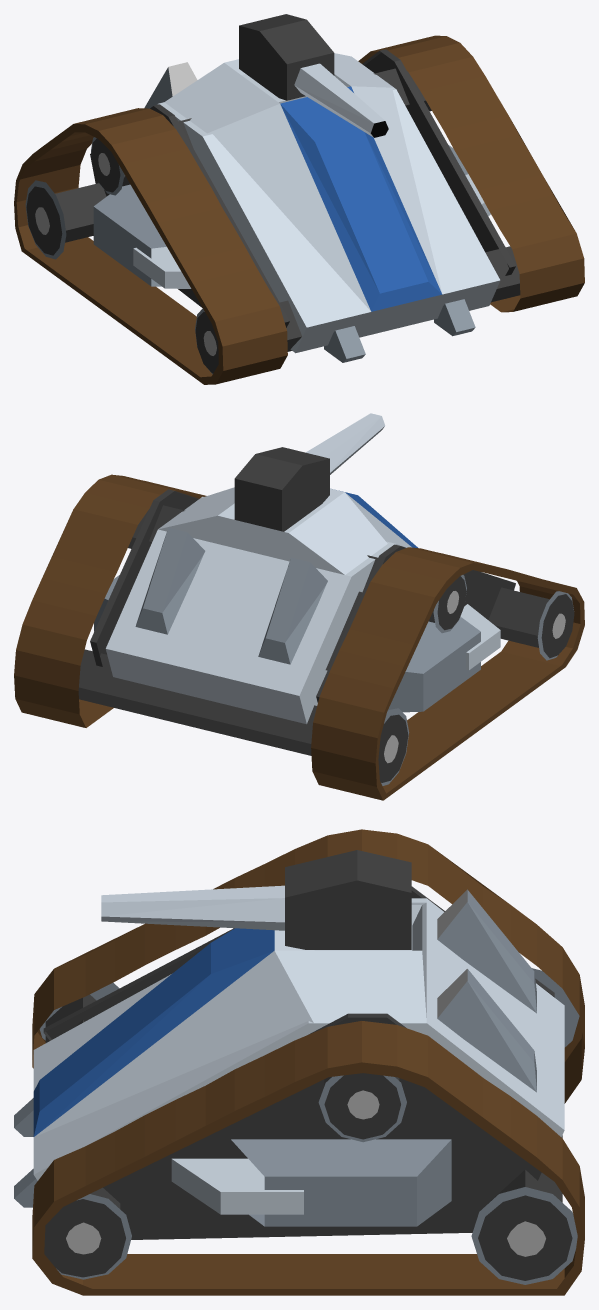
File: tank.FBX
3 views of the same model, one above another, from view 1: azimuth 30°, elevation 25°; view 2: azimuth 150°, elevation 25°; view 3: azimuth 270°, elevation 25° (orthographic). The views are drawn at different scales.
Parts seen in each view (by area): view 1: VIFS006, VIFS001, VIFS005, VIFS004, VIFS002, VIFS007, VIFS008, VIFS003; view 2: VIFS006, VIFS001, VIFS004, VIFS002, VIFS007, VIFS008, VIFS003; view 3: VIFS006, VIFS001, VIFS004, VIFS002, VIFS005, VIFS007, VIFS008, VIFS003.
Boxes of the visible parts, x1,y1,x2,y2 form: VIFS006: [14, 35, 584, 384]; VIFS001: [133, 53, 500, 353]; VIFS005: [280, 86, 442, 311]; VIFS004: [26, 49, 520, 373]; VIFS002: [25, 67, 475, 374]; VIFS007: [239, 14, 334, 100]; VIFS008: [294, 63, 384, 137]; VIFS003: [35, 62, 216, 355]; VIFS006: [14, 474, 584, 800]; VIFS001: [105, 487, 500, 724]; VIFS004: [78, 489, 574, 782]; VIFS002: [94, 527, 574, 785]; VIFS007: [234, 447, 329, 531]; VIFS008: [306, 413, 385, 474]; VIFS003: [384, 591, 565, 763]; VIFS006: [32, 829, 584, 1295]; VIFS001: [33, 898, 564, 1214]; VIFS004: [43, 886, 572, 1280]; VIFS002: [14, 890, 579, 1284]; VIFS005: [33, 928, 274, 1136]; VIFS007: [285, 850, 411, 949]; VIFS008: [101, 885, 284, 930]; VIFS003: [66, 889, 545, 1256].
Size of the model in its own units: 1.58 by 1 by 1.64.
